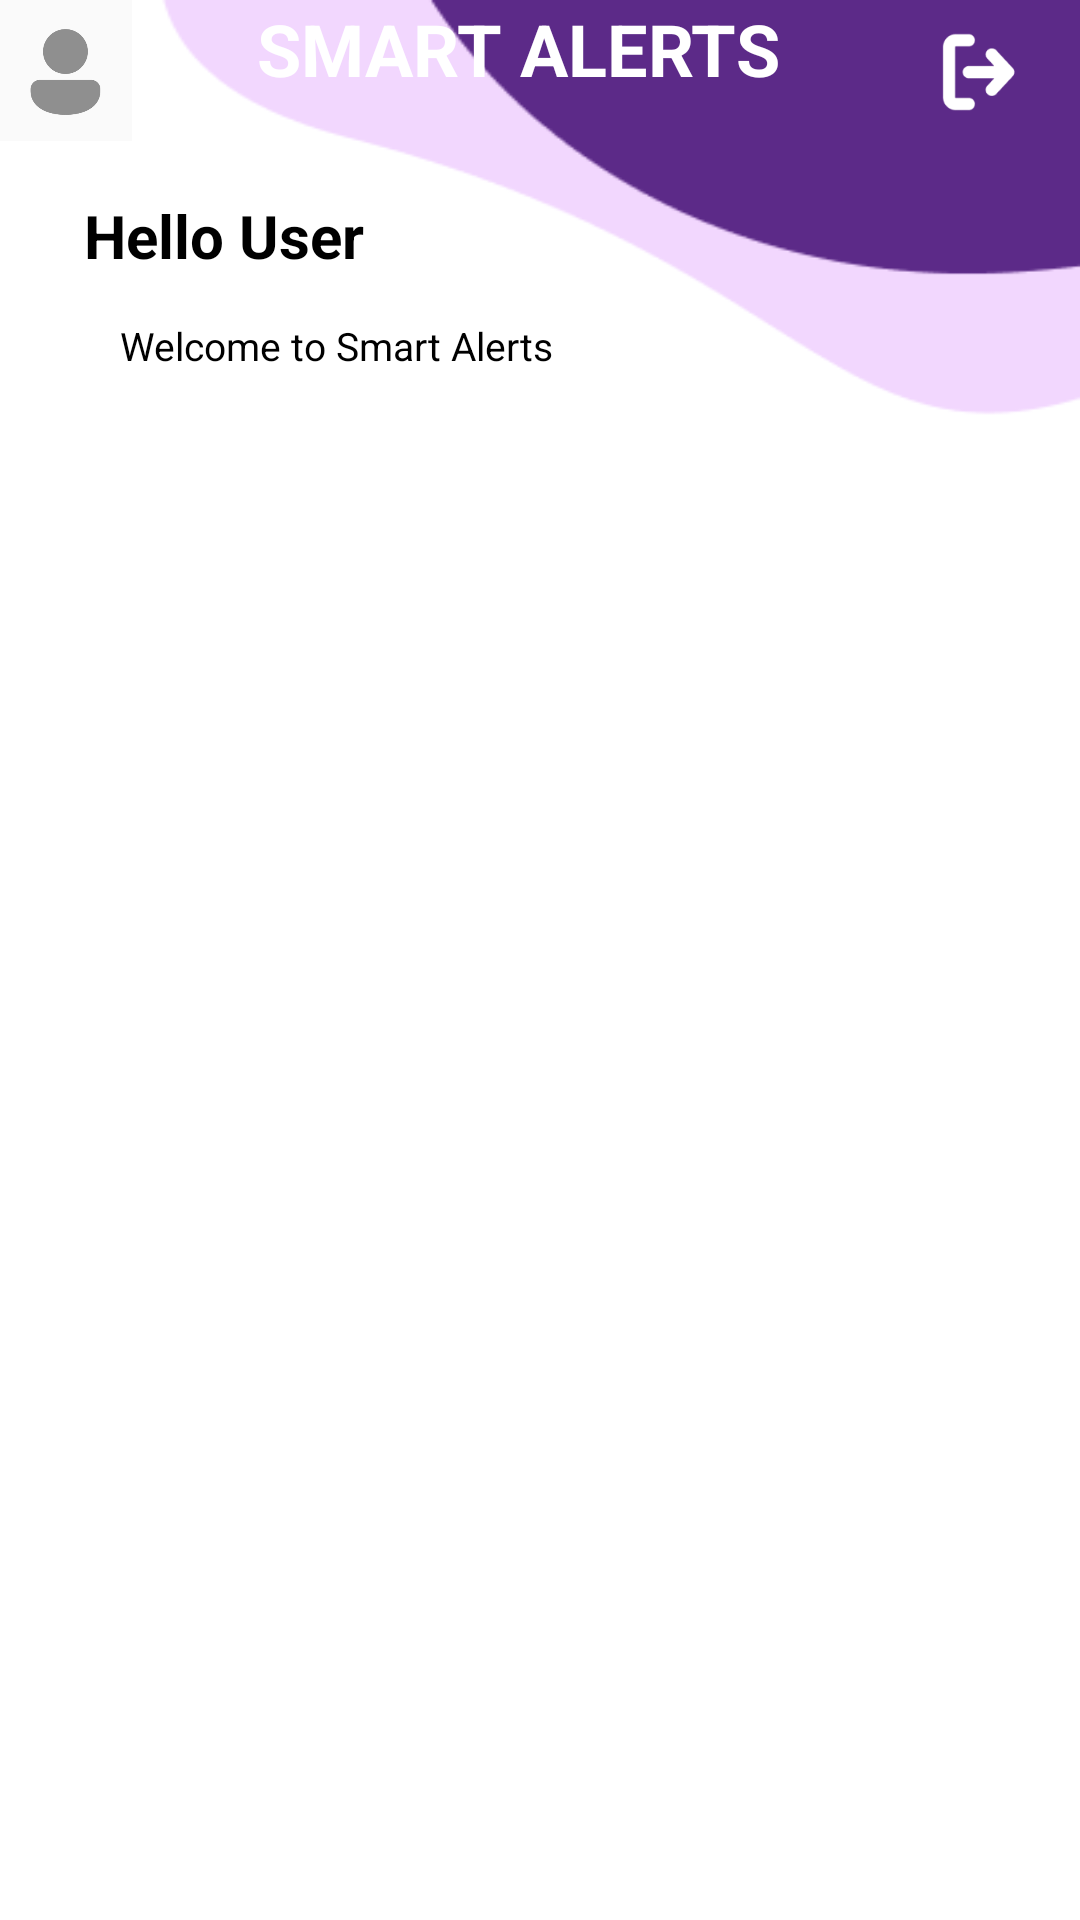

Icon bounding boxes for this 1080x1920 phone screenshot, format [x1, y1, x2, y2]:
customer pic: [30, 29, 100, 115]
